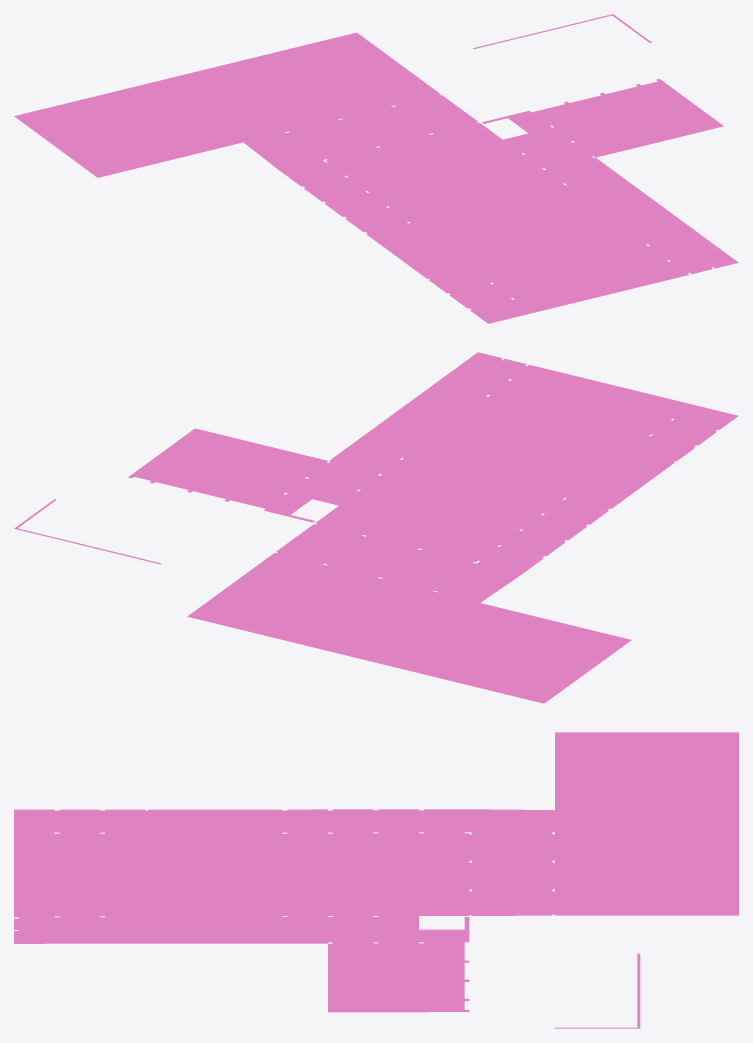
File: InstitutoNevMesh2.1.glb
3 views of the same model, one above another, from view 1: azimuth 30°, elevation 25°; view 2: azimuth 150°, elevation 25°; view 3: azimuth 270°, elevation 25° (orthographic). The views are drawn at different scales.
Parts seen in each view (by area): view 1: navmesh; view 2: navmesh; view 3: navmesh.
Part boxes in pixels (<box>): navmesh: <box>14,14,738,323</box>; navmesh: <box>14,352,738,703</box>; navmesh: <box>14,732,738,1028</box>.
Size of the model in its own units: 81.05 by 0.0987 by 83.74.
